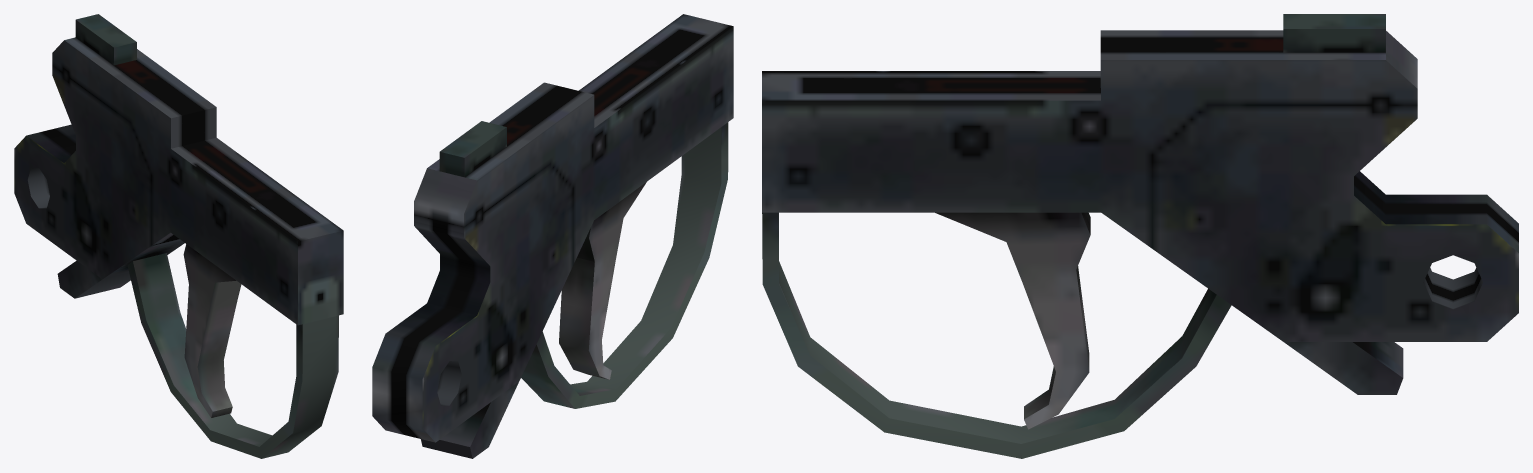
The model's file is eqp_comp_weapon_trigger_s02_l0.fbx.
3 views of the same model, side by side, from view 1: azimuth 30°, elevation 25°; view 2: azimuth 150°, elevation 25°; view 3: azimuth 270°, elevation 25° (orthographic). The views are drawn at different scales.
Visible parts, largest first — view 1: mesh_node; view 2: mesh_node; view 3: mesh_node.
Boxes of the visible parts, x1=… form: mesh_node: x1=14, y1=14, x2=343, y2=458; mesh_node: x1=372, y1=14, x2=733, y2=458; mesh_node: x1=762, y1=14, x2=1518, y2=458.
Size of the model in its own units: 0.00523 by 0.0351 by 0.0561.
